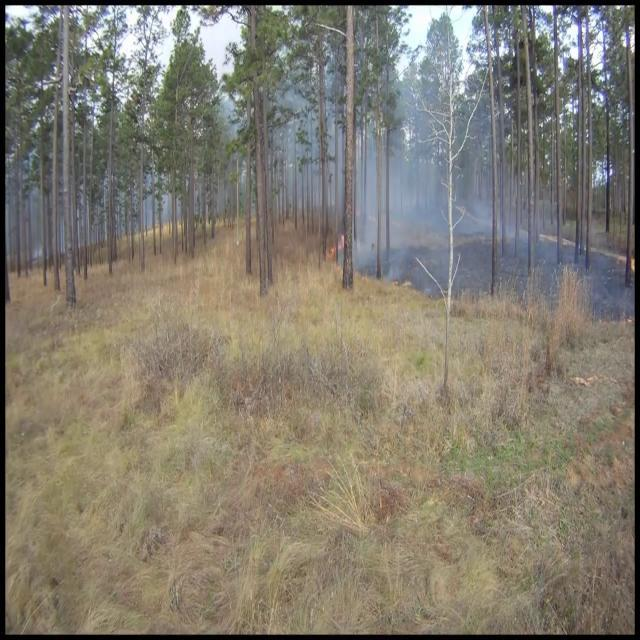Smoke: (346, 55, 479, 278)
